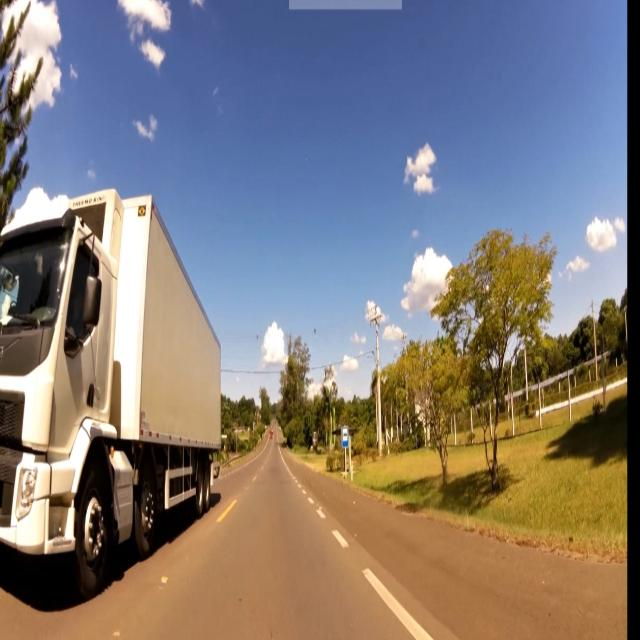S-14: (341, 427, 349, 450)
